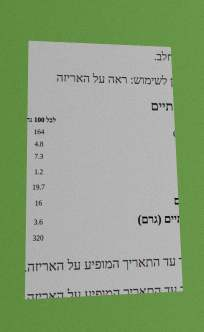carbs: (31, 182, 46, 192)
energy: (33, 127, 45, 136)
fat: (33, 152, 44, 161)
protein: (34, 139, 44, 149)
